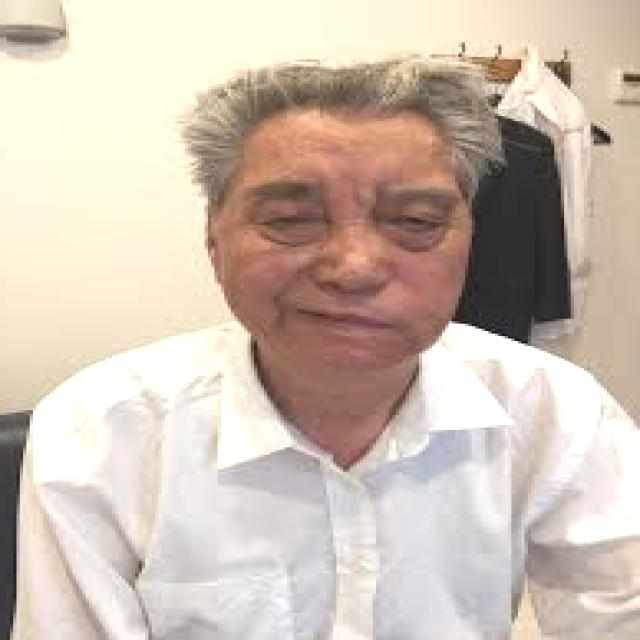stroke_face: (191, 75, 475, 387)
